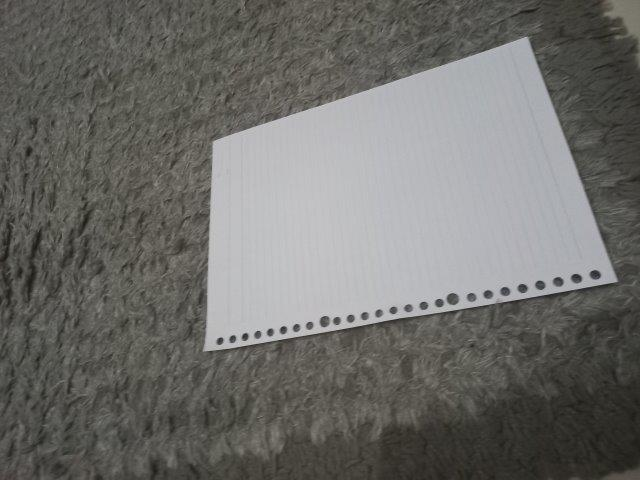kertas: (204, 38, 615, 353)
